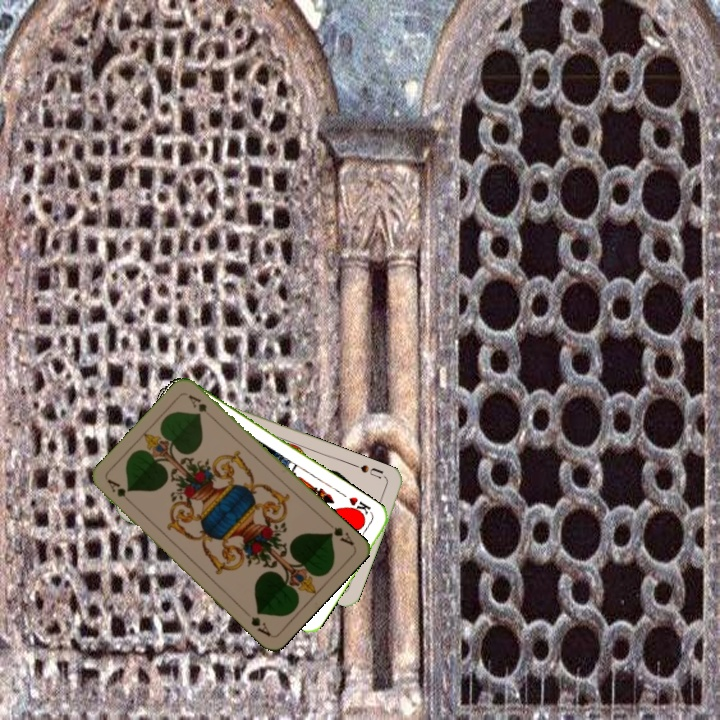GA: (103, 475, 136, 508), (322, 517, 357, 548)
HK: (344, 493, 373, 520)
SU: (349, 460, 386, 481)
